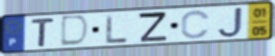C: (180, 9, 212, 40)
D: (58, 14, 92, 48)
J: (216, 6, 245, 40)
L: (104, 13, 130, 45)
T: (30, 17, 57, 48)
Z: (137, 11, 170, 43)
